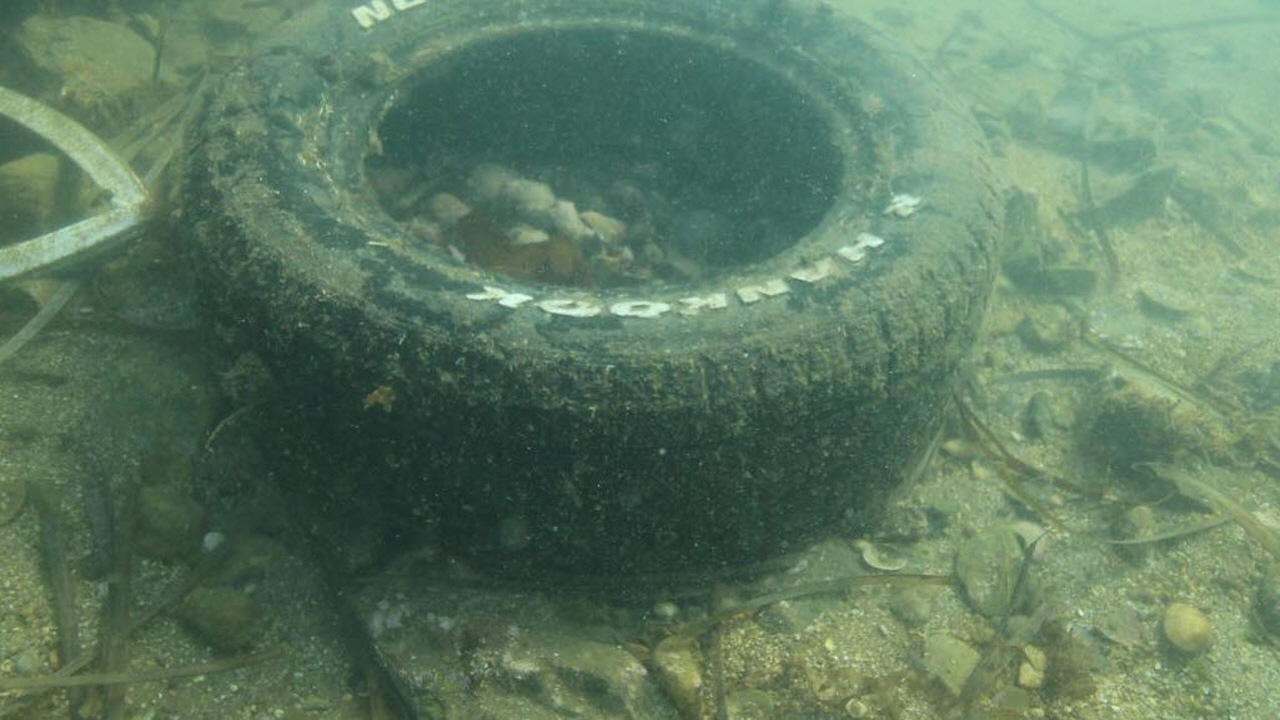tire: (184, 0, 999, 569)
